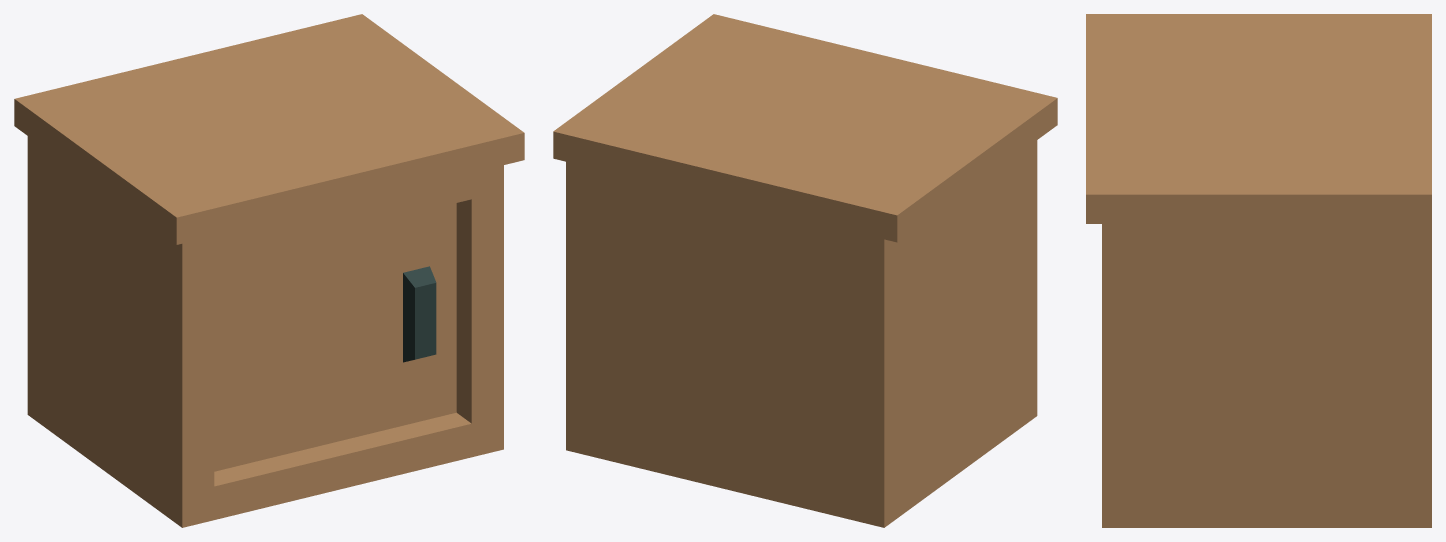
Rendered from bedside-storage-v1.glb.
3 views of the same model, side by side, from view 1: azimuth 30°, elevation 25°; view 2: azimuth 150°, elevation 25°; view 3: azimuth 270°, elevation 25° (orthographic). The views are drawn at different scales.
Visible parts, largest first — view 1: cabinetBed(Clone), door; view 2: cabinetBed(Clone); view 3: cabinetBed(Clone).
Part boxes in pixels (box(x1,y1,x2,y2)): cabinetBed(Clone): box(14, 14, 524, 527); door: box(214, 203, 456, 471); cabinetBed(Clone): box(553, 14, 1057, 527); cabinetBed(Clone): box(1086, 14, 1431, 527).
Bounding box in the file's own units: 0.532 × 0.4664 × 0.43.
